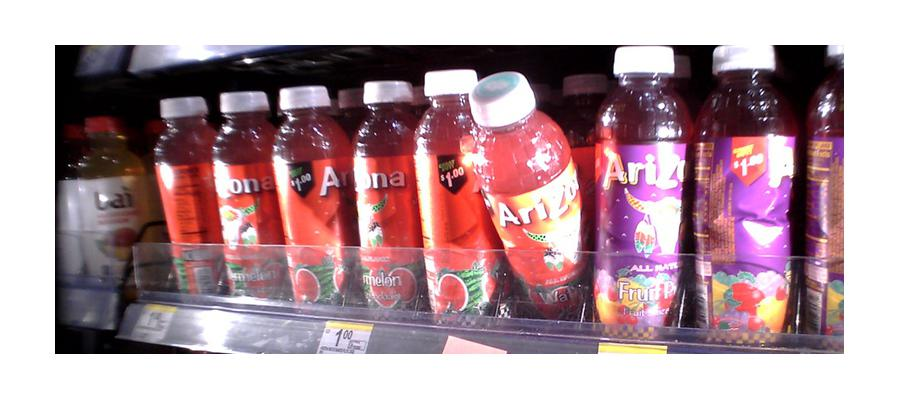bottle: (473, 81, 591, 327), (697, 45, 795, 339), (595, 52, 688, 333), (419, 70, 491, 322), (274, 80, 349, 309), (353, 73, 420, 317), (214, 89, 278, 303), (152, 92, 216, 296), (808, 51, 844, 347)
